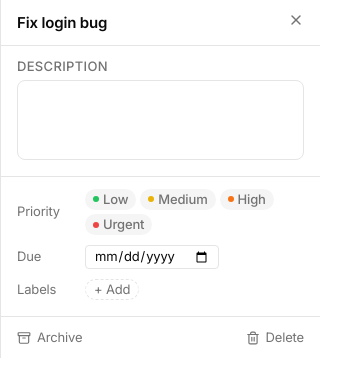
Test: <CardDetailPanel /> › clicking '+ Add' opens LabelPicker with label list
Click the button "+ Add" at (112, 289), box [85,279,139,300]
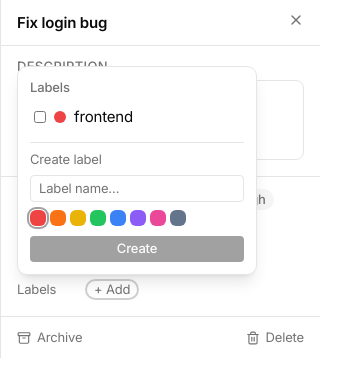
Expected: the checkbox is shown, [34,111,46,123]
